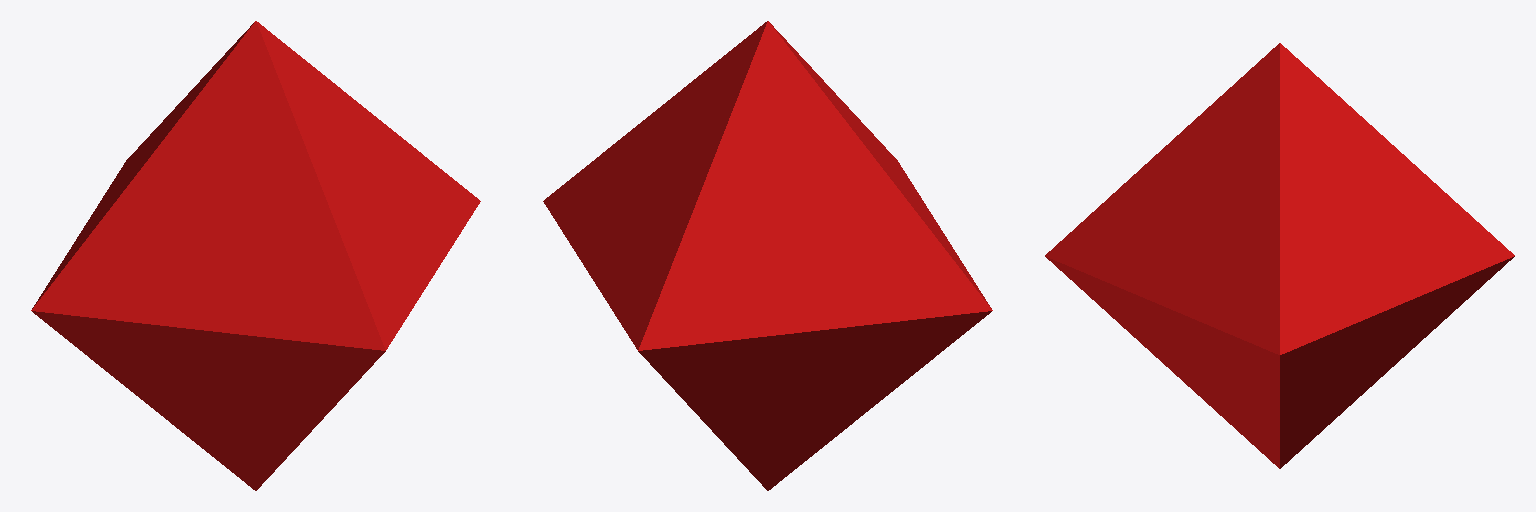
robot.urdf — apple_proxy:
<?xml version="1.0"?>
<robot name="apple_proxy">
  <link name="apple_proxy">
    <visual>
      <origin xyz="0 0 0" rpy="0 0 0"/>
      <geometry>
        <mesh filename="apple_proxy.obj" scale="1.0 1.0 1.0"/>
      </geometry>
      <material name="apple_red">
        <color rgba="0.82 0.12 0.12 1.0"/>
      </material>
    </visual>
    <collision>
      <origin xyz="0 0 0" rpy="0 0 0"/>
      <geometry>
        <mesh filename="apple_proxy.obj" scale="1.0 1.0 1.0"/>
      </geometry>
    </collision>
    <inertial>
      <density value="950"/>
    </inertial>
  </link>
</robot>

--- Render facts (derived) ---
Views: 3 orthographic renders of the robot side by side, from view 1: azimuth 30°, elevation 25°; view 2: azimuth 150°, elevation 25°; view 3: azimuth 270°, elevation 25°.
Robot: apple_proxy — 1 links, 0 joints (none); root link apple_proxy; default pose: all joints at 0.
Visible links, largest first — view 1: apple_proxy; view 2: apple_proxy; view 3: apple_proxy.
Link boxes in pixels (x1,y1,x2,y2): apple_proxy: (31,21,480,490); apple_proxy: (543,21,992,490); apple_proxy: (1045,43,1514,468).
Size in the robot's own frame: 0.08 by 0.08 by 0.08 metres.
1 mesh visuals loaded from 1 distinct referenced files (1 OBJ).
